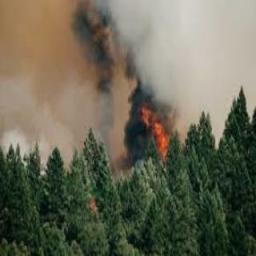Low smoke: (3, 0, 122, 115)
Medium fire: (125, 85, 178, 176)
